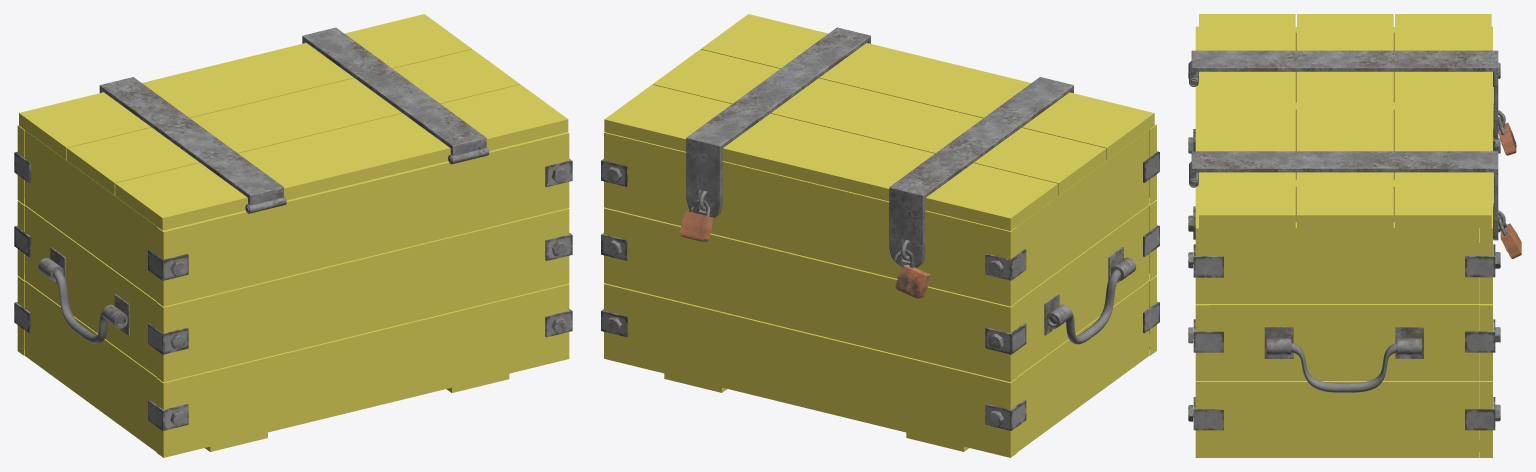
File: TNT CRATES sp.fbx
The picture shows the model from 3 angles, left to right: view 1: azimuth 30°, elevation 25°; view 2: azimuth 150°, elevation 25°; view 3: azimuth 270°, elevation 25°; orthographic projection.
Visible parts, largest first — view 1: cerniere; view 2: cerniere; view 3: cerniere.
Part boxes in pixels (x1=…): cerniere: x1=14, y1=14, x2=572, y2=457; cerniere: x1=601, y1=14, x2=1159, y2=457; cerniere: x1=1188, y1=14, x2=1521, y2=457.
Bounding box in the file's own units: 460 × 253 × 301.
